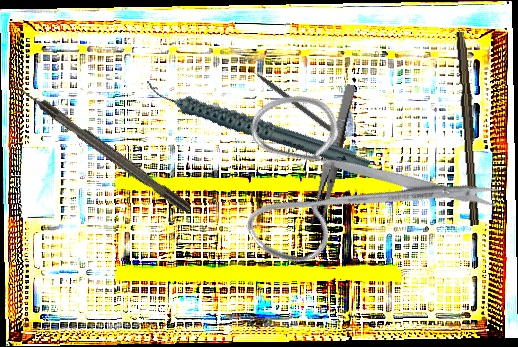Dressing Forceps: (308, 82, 357, 230)
Handpiece: (142, 38, 372, 212)
Hook Surgical: (7, 76, 193, 216), (240, 60, 348, 143)
Iris Scissors: (195, 21, 511, 330)
Scalpel Handle: (453, 31, 485, 226)
